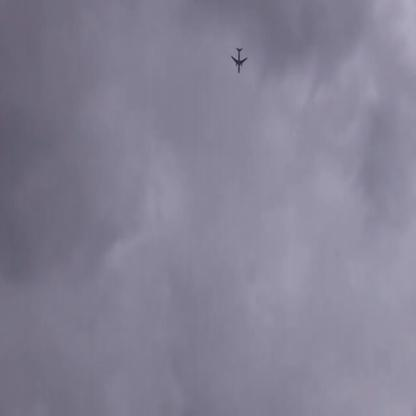CIV_Plane: (228, 44, 249, 74)
